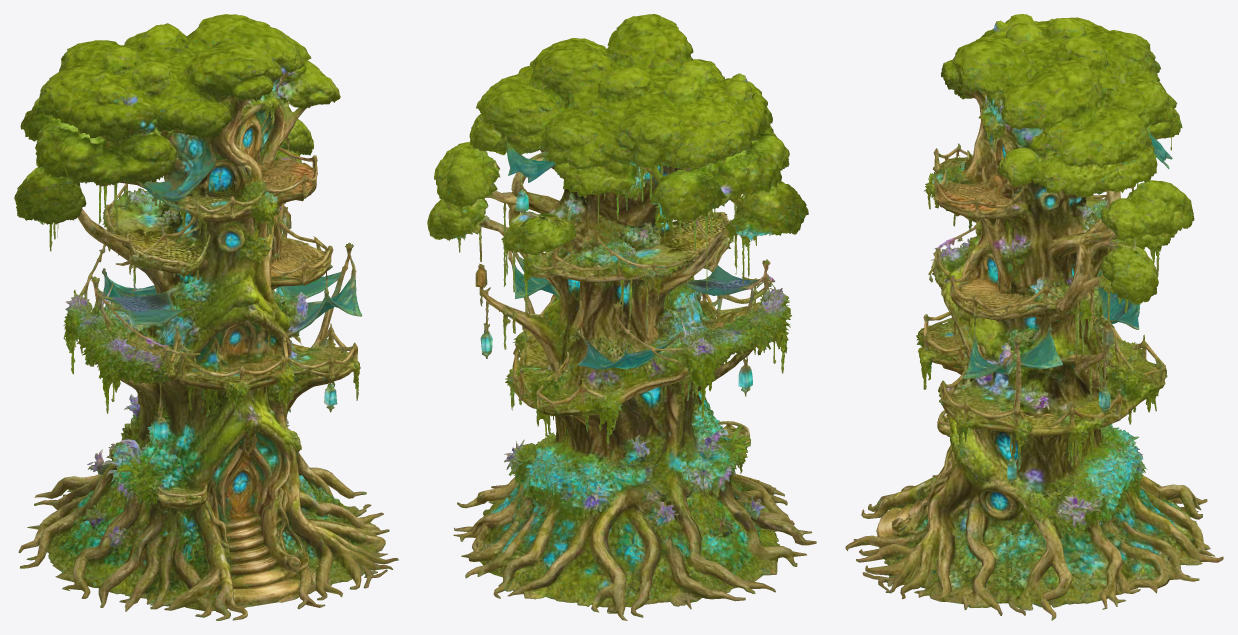
The model's file is elder-tree-house.glb.
3 renders of one model, left to right at view 1: azimuth 30°, elevation 25°; view 2: azimuth 150°, elevation 25°; view 3: azimuth 270°, elevation 25°, orthographic. The views are drawn at different scales.
Bounding box in the file's own units: 1.36 × 1.9 × 1.3.
Materials: 1 (1 with a texture image).
